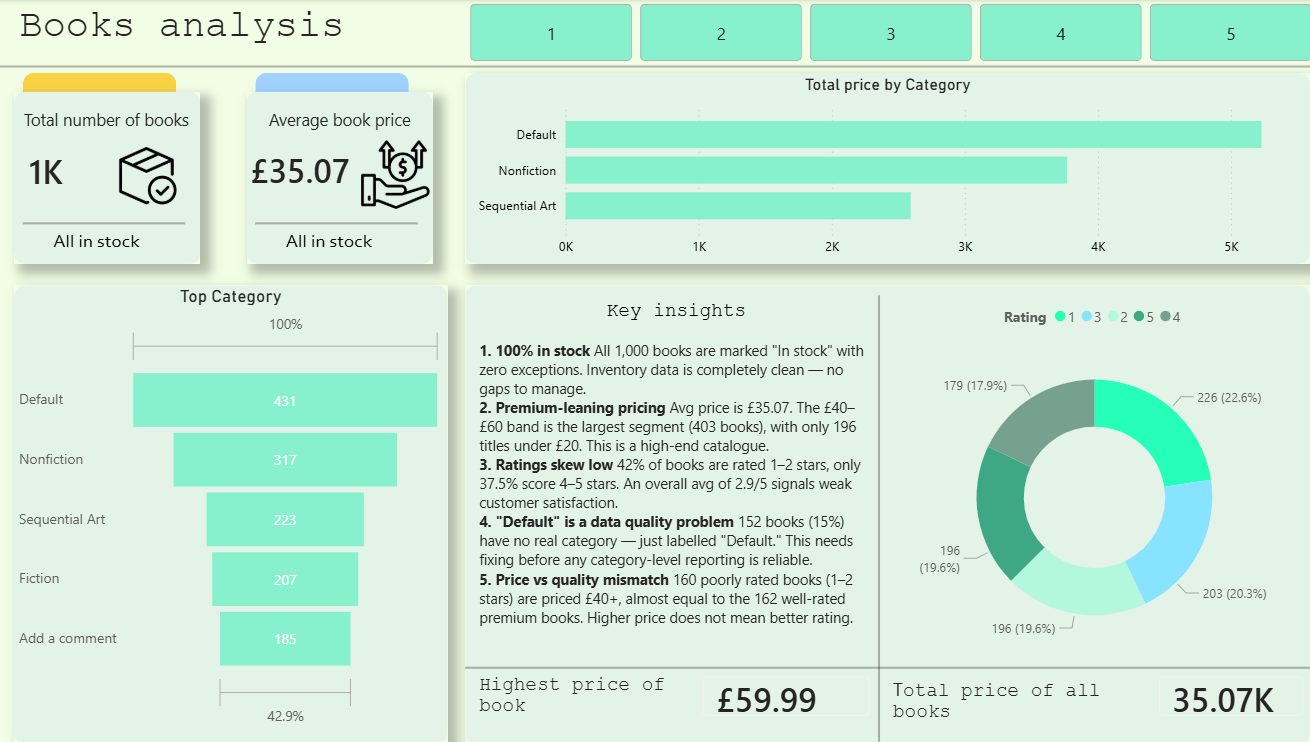

Layout of this report page (visuals, bound fields, positions):
{"tool":"powerbi","page":{"name":"Page 1","canvas":[1280,720],"ordinal":0},"visuals":[{"type":"shape","box":[0,55.5,1280,19.3],"z":0},{"type":"shape","box":[22.9,71.2,148.4,85.7],"z":0,"group":"g1"},{"type":"shape","box":[247.1,71.2,148.4,85.7],"z":0,"group":"g2"},{"type":"group","id":"g1","title":"Group 1","box":[0,71.2,194.2,184.6],"z":1000},{"type":"shape","box":[14.5,89.3,179.8,166.5],"z":1000,"group":"g1"},{"type":"shape","box":[238.6,89.3,179.8,166.5],"z":1000,"group":"g2"},{"type":"cardVisual","fields":{"Data":["API.Average_price"]},"box":[213.8,104.8,156.8,117],"z":2000,"group":"g2"},{"type":"cardVisual","fields":{"Data":["API.Total_books"]},"box":[0,106.2,156.8,117],"z":2000,"group":"g1"},{"type":"shape","box":[14.5,276.3,418.6,444],"z":2000},{"type":"shape","box":[450,71.2,815.6,184.6],"z":3000},{"type":"textbox","box":[14.5,100.2,179.8,38.6],"z":3000,"group":"g1"},{"type":"textbox","box":[238.6,100.2,179.8,38.6],"z":3000,"group":"g2"},{"type":"group","id":"g2","title":"Group 1","box":[213.8,71.2,219.4,184.6],"z":4000},{"type":"shape","box":[22.9,209.9,156.8,13.3],"z":4000,"group":"g1"},{"type":"shape","box":[247.1,209.9,156.8,13.3],"z":4000,"group":"g2"},{"type":"barChart","title":"Total price by Category","fields":{"Category":["Books_cleaned_data.Category"],"Y":["API.Total_price"]},"box":[450,73.6,815.6,183.4],"z":5000},{"type":"textbox","box":[31.4,217.2,125.5,38.6],"z":5000,"group":"g1"},{"type":"textbox","box":[255.5,217.2,125.5,38.6],"z":5000,"group":"g2"},{"type":"image","box":[331.9,136.3,101.3,66.4],"z":6000,"group":"g2"},{"type":"image","box":[92.9,138.8,101.3,66.4],"z":6000,"group":"g1"},{"type":"shape","box":[450,276.3,815.6,444],"z":6000},{"type":"shape","box":[723.9,285.9,250.9,431.9],"z":7000},{"type":"shape","box":[450,570.6,815.6,149.6],"z":7001},{"type":"donutChart","title":"Number of books by Rating","fields":{"Category":["Books_cleaned_data.Rating"],"Y":["API.Total_books"]},"box":[849.3,285.9,416.2,360.7],"z":7003},{"type":"funnel","title":"Top Category","fields":{"Category":["Books_cleaned_data.Category"],"Y":["Sum(Books_cleaned_data.Rating)"]},"box":[14.5,276.3,418.6,433.1],"z":7004},{"type":"textbox","box":[458.4,285.9,390.9,376.4],"z":7005},{"type":"cardVisual","fields":{"Data":["API.Max_price"]},"box":[662.3,637,195.4,72.4],"z":7006},{"type":"textbox","box":[458.4,646.7,218.4,71.2],"z":7007},{"type":"cardVisual","fields":{"Data":["API.Total_price"]},"box":[1102.7,637,173.7,72.4],"z":7008},{"type":"textbox","box":[857.8,647.9,244.9,70],"z":7009},{"type":"textbox","box":[14.5,0,775.7,55.5],"z":7010},{"type":"advancedSlicerVisual","fields":{"Values":["Books_cleaned_data.Rating"]},"box":[450,0,826.4,65.1],"z":7011}]}

Visuals, with their boxes in screenshot pixels (x1, y1, x2, y2), scaled from the page's 1280x720 canvas onto the 1310x742 screenshot:
shape: crop(0, 57, 1309, 77)
shape: crop(23, 73, 175, 162)
shape: crop(253, 73, 405, 162)
"Group 1" group: crop(0, 73, 199, 264)
shape: crop(15, 92, 199, 264)
shape: crop(244, 92, 428, 264)
cardVisual - API.Average_price: crop(219, 108, 379, 229)
cardVisual - API.Total_books: crop(0, 109, 160, 230)
shape: crop(15, 285, 443, 741)
shape: crop(461, 73, 1295, 264)
textbox: crop(15, 103, 199, 143)
textbox: crop(244, 103, 428, 143)
"Group 1" group: crop(219, 73, 443, 264)
shape: crop(23, 216, 184, 230)
shape: crop(253, 216, 413, 230)
"Total price by Category" barChart: crop(461, 76, 1295, 265)
textbox: crop(32, 224, 161, 264)
textbox: crop(261, 224, 390, 264)
image: crop(340, 140, 443, 209)
image: crop(95, 143, 199, 211)
shape: crop(461, 285, 1295, 741)
shape: crop(741, 295, 998, 740)
shape: crop(461, 588, 1295, 741)
"Number of books by Rating" donutChart: crop(869, 295, 1295, 666)
"Top Category" funnel: crop(15, 285, 443, 731)
textbox: crop(469, 295, 869, 683)
cardVisual - API.Max_price: crop(678, 656, 878, 731)
textbox: crop(469, 666, 693, 740)
cardVisual - API.Total_price: crop(1129, 656, 1306, 731)
textbox: crop(878, 668, 1129, 740)
textbox: crop(15, 0, 809, 57)
advancedSlicerVisual - Books_cleaned_data.Rating: crop(461, 0, 1306, 67)
